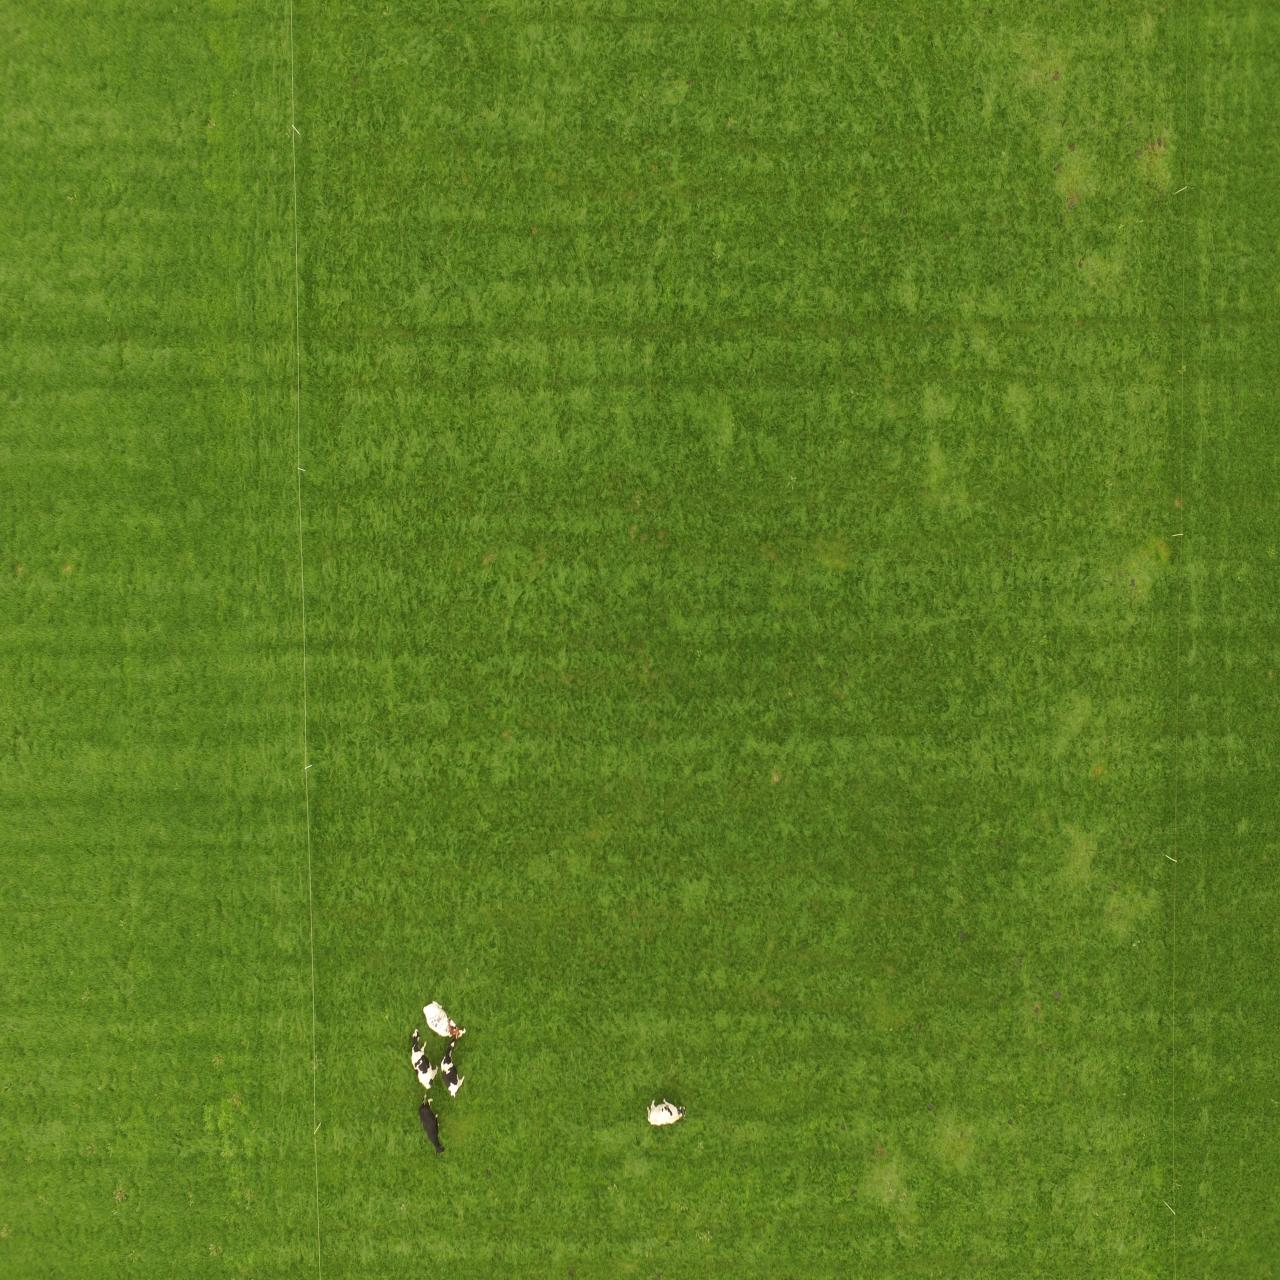cow: (415, 1090, 451, 1163), (422, 998, 474, 1041), (401, 1028, 435, 1092), (438, 1040, 469, 1101), (640, 1098, 692, 1130)
